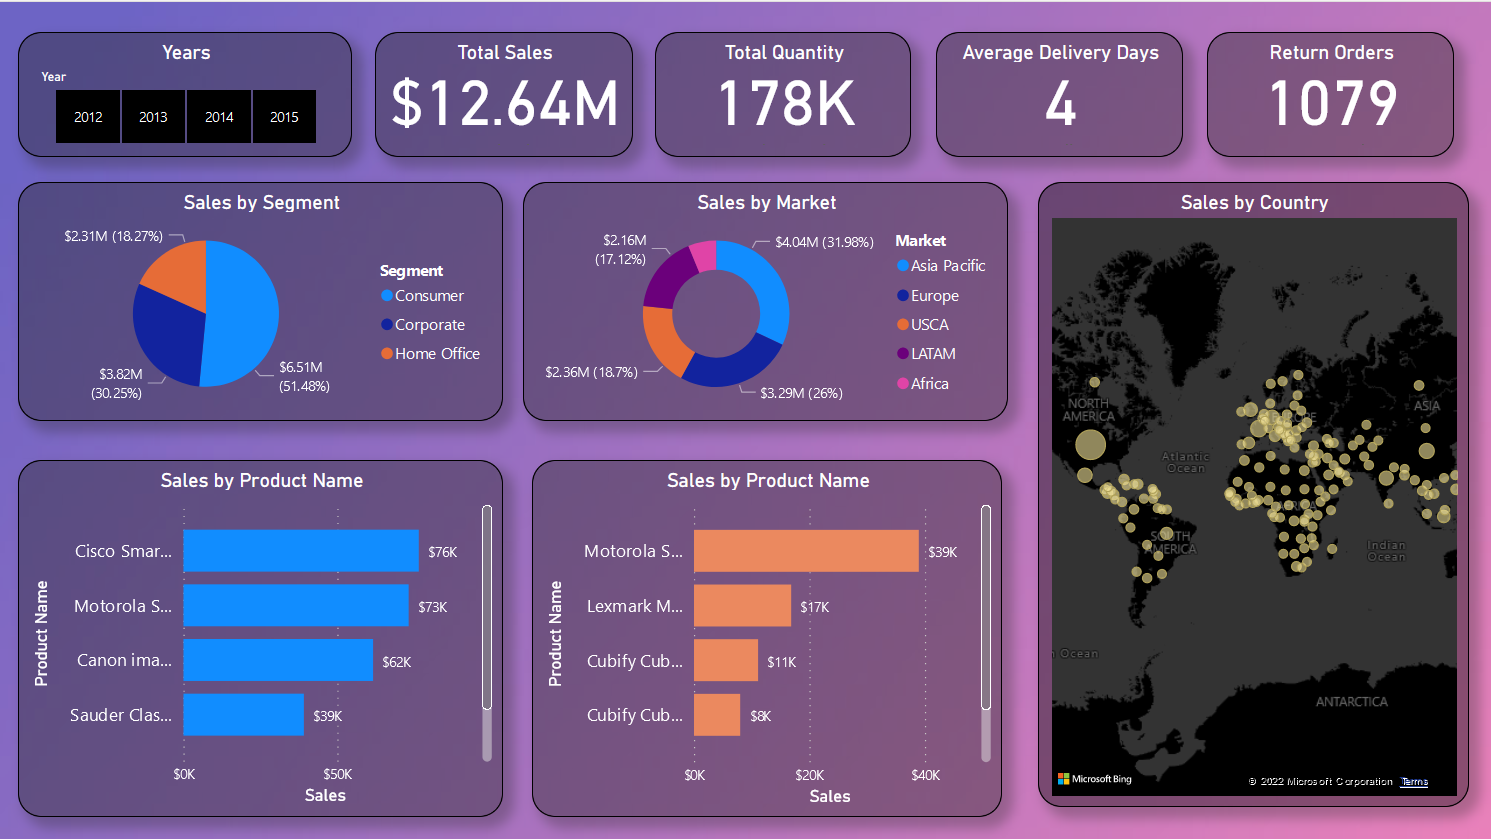

The page's visual inventory and layout, read from the dashboard file:
{"tool":"powerbi","page":{"name":"Page 1","canvas":[1280,720],"ordinal":0},"visuals":[{"type":"card","title":"Total Sales","fields":{"Values":["Sum(Orders.Sales)"]},"box":[322.7,26.3,221,107],"z":0},{"type":"card","title":"Average Delivery Days","fields":{"Values":["Avg(Orders.Delivery Date)"]},"box":[804.2,26.3,212.2,107],"z":1000},{"type":"card","title":"Total Quantity","fields":{"Values":["Sum(Orders.Quantity)"]},"box":[563,26.3,220.1,107],"z":2000},{"type":"slicer","title":"Years","fields":{"Values":["Orders.Year"]},"box":[16.7,26.3,286.8,107],"z":3000},{"type":"card","title":"Return Orders","fields":{"Values":["Sum(Returns.Return Orders)"]},"box":[1036.8,26.3,212,107],"z":4000},{"type":"map","fields":{"Size":["Sum(Orders.Sales)"],"Category":["Orders.Country"]},"box":[891.9,155.2,370.1,536.7],"z":5000},{"type":"clusteredBarChart","fields":{"Y":["Sum(Orders.Sales)"],"Category":["Orders.Product Name"]},"box":[16.7,393.8,416.6,306.1],"z":6000},{"type":"clusteredBarChart","fields":{"Y":["Sum(Orders.Sales)"],"Category":["Orders.Product Name"]},"box":[457.1,393.9,403.6,306.4],"z":7000},{"type":"pieChart","fields":{"Y":["Sum(Orders.Sales)"],"Category":["Orders.Segment"]},"box":[16.7,155.2,416.6,205.2],"z":8000},{"type":"donutChart","fields":{"Y":["Sum(Orders.Sales)"],"Category":["Orders.Market"]},"box":[449.9,155.2,416.6,205.2],"z":9000}]}

Visuals, with their boxes in screenshot pixels (x1, y1, x2, y2), scaled from the page's 1280x720 canvas onto the 1491x839 screenshot:
"Total Sales" card: x1=376, y1=31, x2=633, y2=155
"Average Delivery Days" card: x1=937, y1=31, x2=1184, y2=155
"Total Quantity" card: x1=656, y1=31, x2=912, y2=155
"Years" slicer: x1=19, y1=31, x2=354, y2=155
"Return Orders" card: x1=1208, y1=31, x2=1455, y2=155
map - Sum(Orders.Sales) x Orders.Country: x1=1039, y1=181, x2=1470, y2=806
clusteredBarChart - Sum(Orders.Sales) x Orders.Product Name: x1=19, y1=459, x2=505, y2=816
clusteredBarChart - Sum(Orders.Sales) x Orders.Product Name: x1=532, y1=459, x2=1003, y2=816
pieChart - Sum(Orders.Sales) x Orders.Segment: x1=19, y1=181, x2=505, y2=420
donutChart - Sum(Orders.Sales) x Orders.Market: x1=524, y1=181, x2=1009, y2=420
